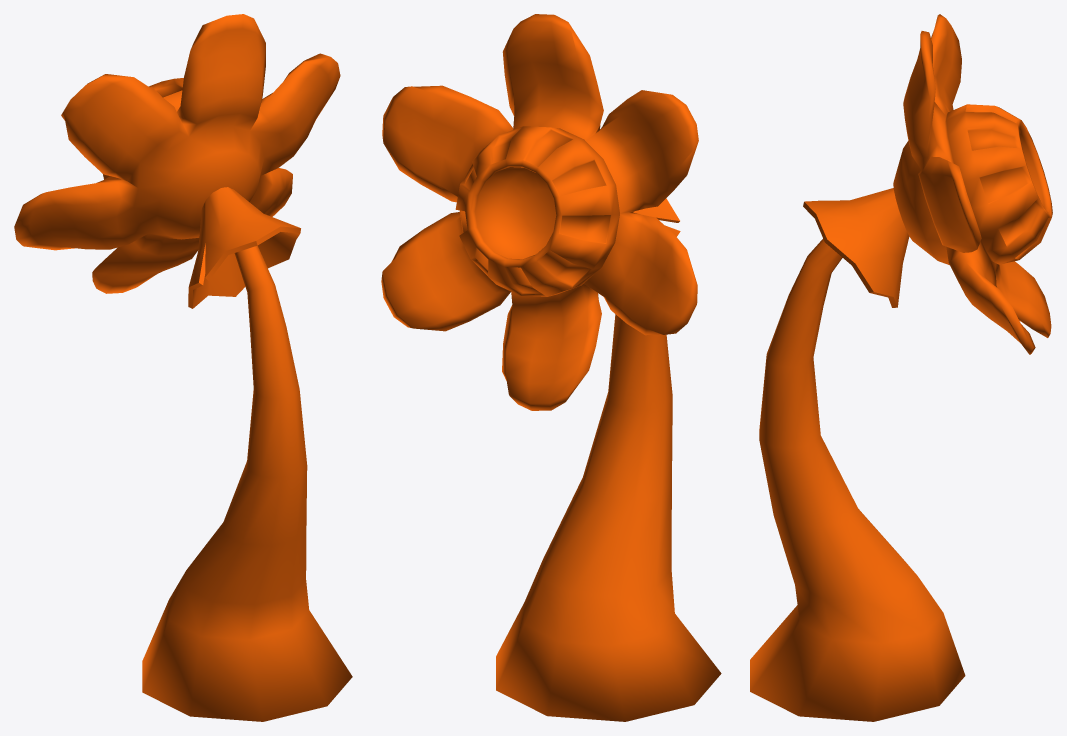
The model's file is flower.fbx.
3 views of the same model, side by side, from view 1: azimuth 30°, elevation 25°; view 2: azimuth 150°, elevation 25°; view 3: azimuth 270°, elevation 25° (orthographic). The views are drawn at different scales.
Parts seen in each view (by area): view 1: flower; view 2: flower; view 3: flower.
Part boxes in pixels (x1=…): flower: x1=14, y1=14, x2=352, y2=721; flower: x1=381, y1=14, x2=721, y2=721; flower: x1=750, y1=14, x2=1052, y2=721.
Bounding box in the file's own units: 337 × 660 × 279.
